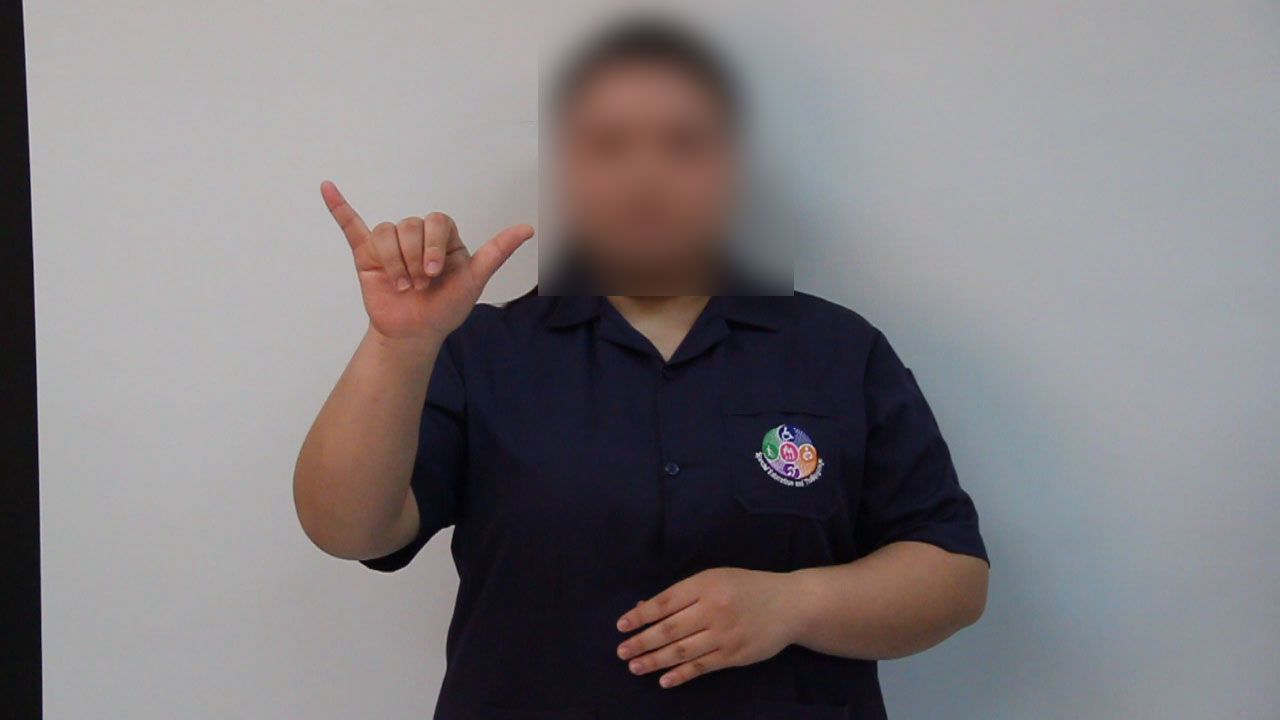yor: (297, 163, 545, 351)
